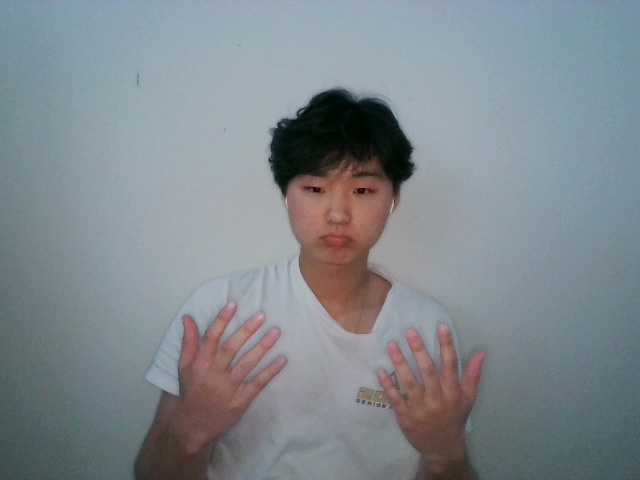sad: (170, 291, 502, 449)
